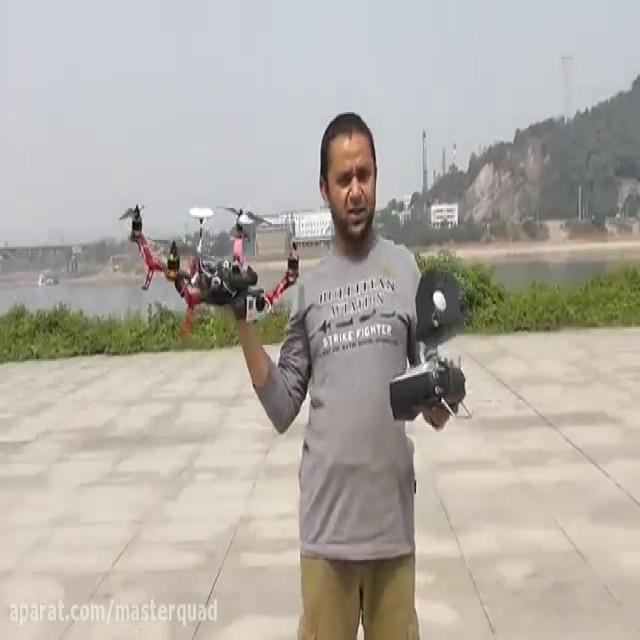drone: (112, 195, 303, 338)
